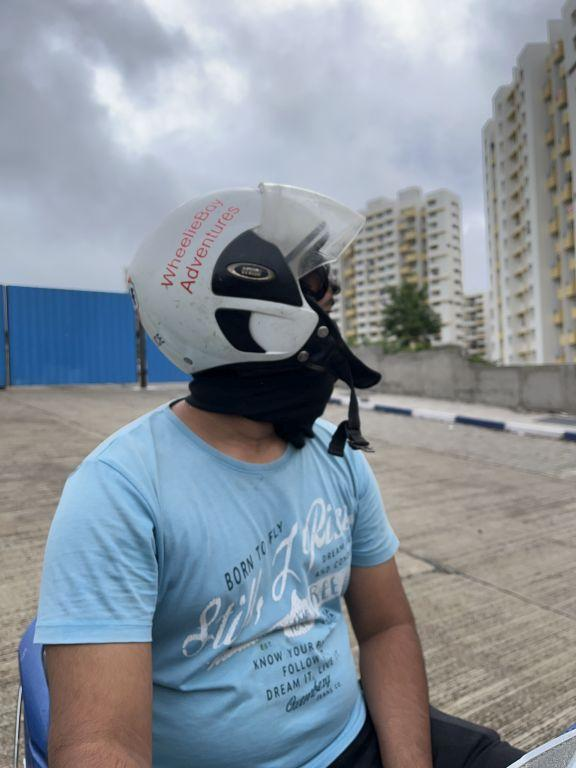helmet: (115, 167, 384, 407)
